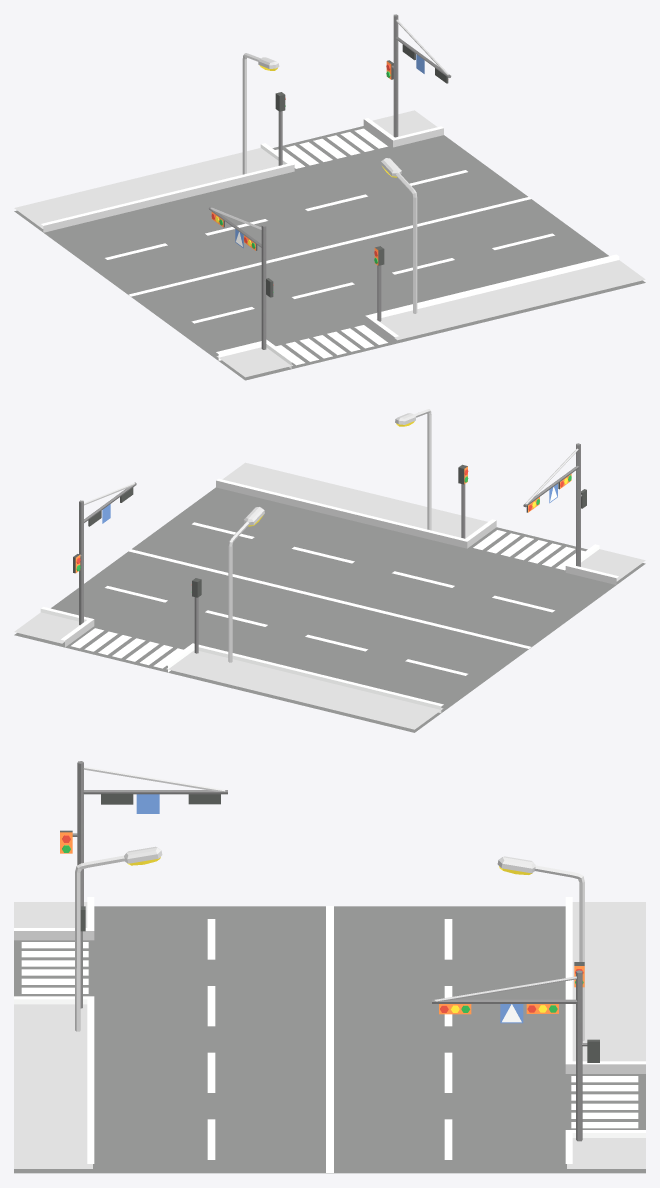
The model's file is road_tile_2x2_7 reversal.glb.
The picture shows the model from 3 angles, top to bottom: view 1: azimuth 30°, elevation 25°; view 2: azimuth 150°, elevation 25°; view 3: azimuth 270°, elevation 25°; orthographic projection. The views are drawn at different scales.
Parts seen in each view (by area): view 1: road_tile_2x2_7 reversal(Clone); view 2: road_tile_2x2_7 reversal(Clone); view 3: road_tile_2x2_7 reversal(Clone).
Boxes of the visible parts, x1,y1,x2,y2 form: road_tile_2x2_7 reversal(Clone): (14,14,645,380); road_tile_2x2_7 reversal(Clone): (14,409,645,732); road_tile_2x2_7 reversal(Clone): (14,761,645,1173).
Bounding box in the file's own units: 16 × 5.25 × 16.
1 material, 1 textured.
